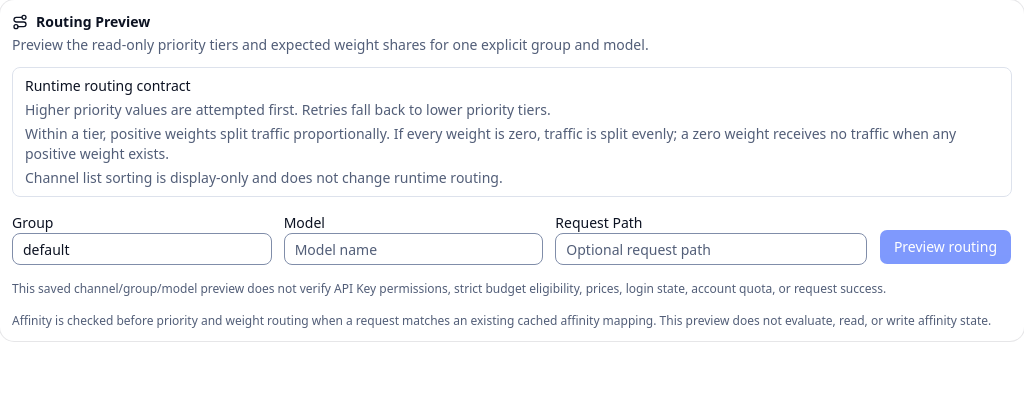
Test: channel routing preview › renders one inline error for network rejection
The width and height of the screenshot is (1024, 413).
In the field named "Routing preview model": (413, 249) [284,233,543,265], type "gpt-test"
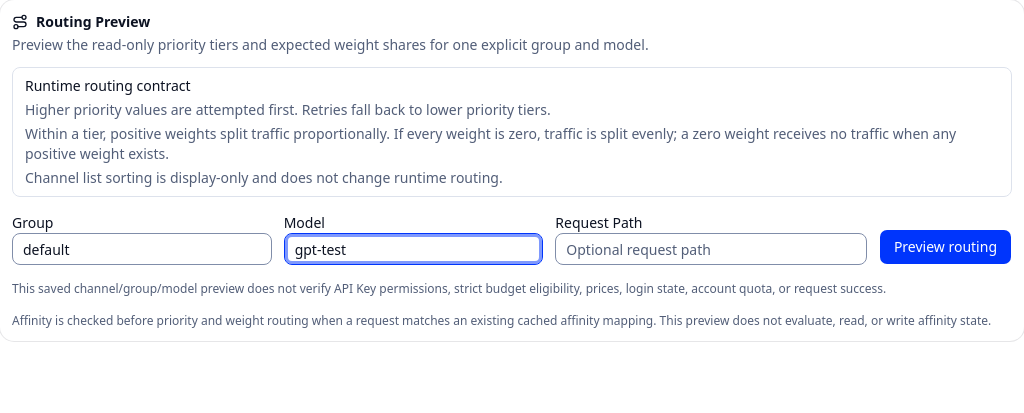
Click the button "Preview routing": click(945, 247) [879,229,1012,265]
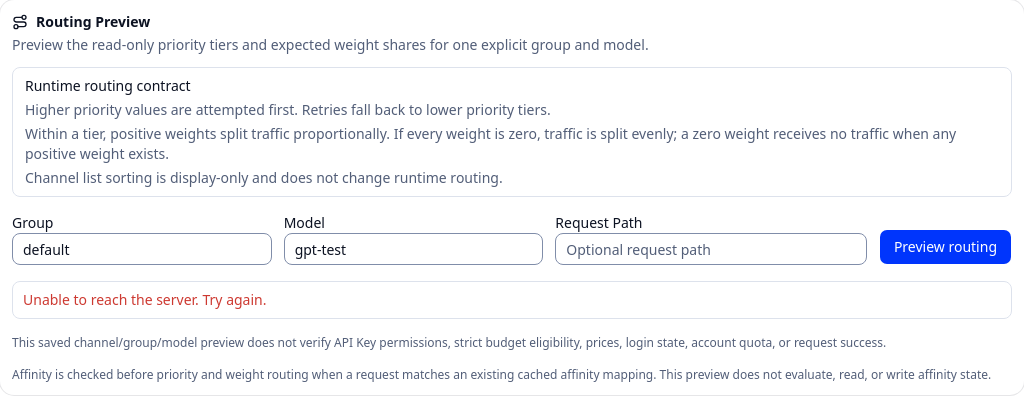
Expected: the text "Unable to reach the server. Try again." is shown, [23,290,266,309]
Expected: the number of messages is 1, [12,281,1012,319]
